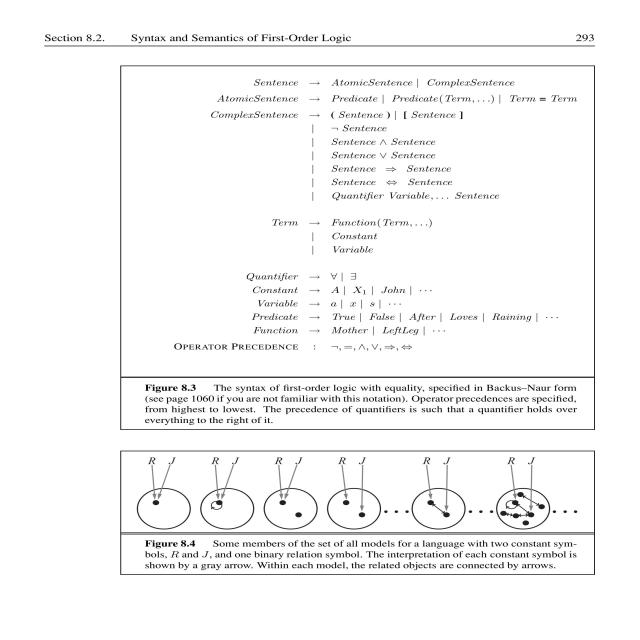diagram: (119, 449, 595, 575)
